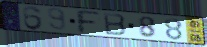6: (22, 5, 44, 32)
8: (162, 16, 184, 41), (138, 16, 158, 39)
9: (47, 7, 68, 33)
B: (102, 12, 128, 37)
F: (74, 8, 102, 35)
